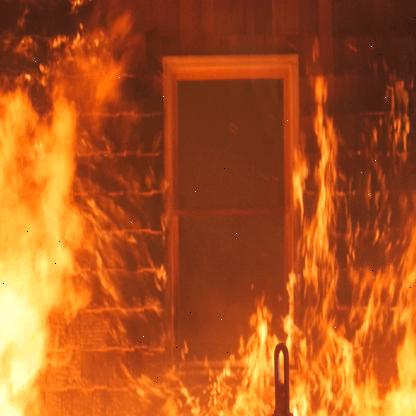fire: (1, 3, 416, 416)
